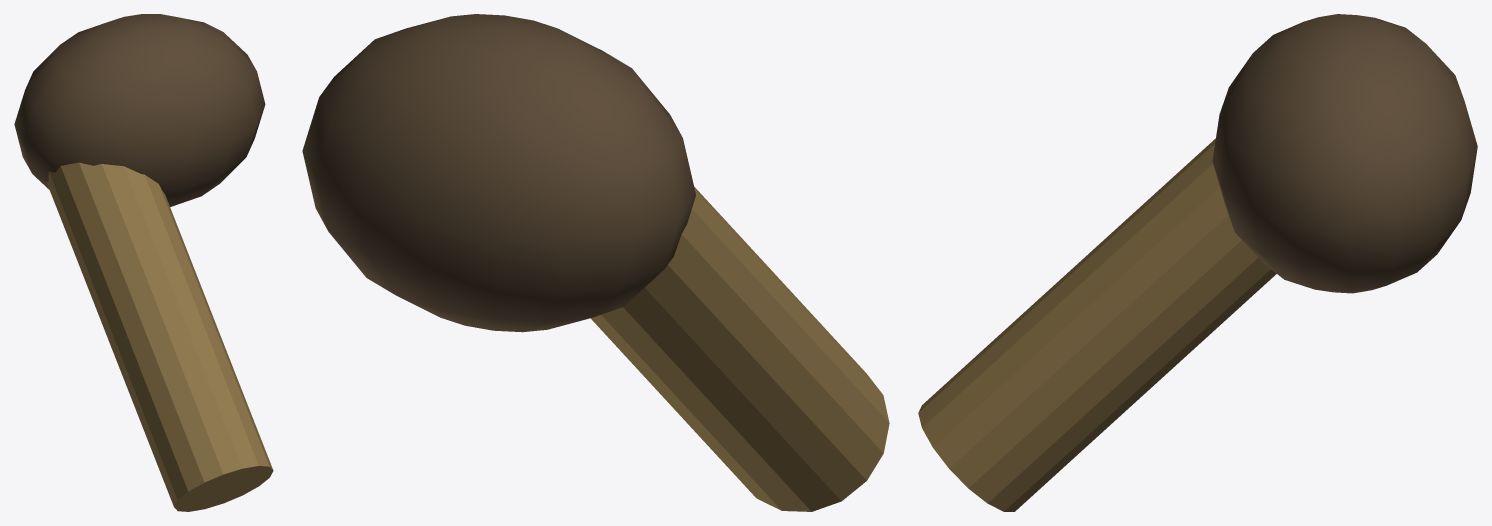
The model's file is ReelCrank.fbx.
3 views of the same model, side by side, from view 1: azimuth 30°, elevation 25°; view 2: azimuth 150°, elevation 25°; view 3: azimuth 270°, elevation 25° (orthographic). The views are drawn at different scales.
Parts seen in each view (by area): view 1: ReelCrank; view 2: ReelCrank; view 3: ReelCrank.
Boxes of the visible parts, bbox=[...] form: ReelCrank: bbox=[14, 14, 273, 511]; ReelCrank: bbox=[302, 14, 889, 511]; ReelCrank: bbox=[918, 14, 1477, 511].
Size of the model in its own units: 0.032 by 0.0506 by 0.0505.
